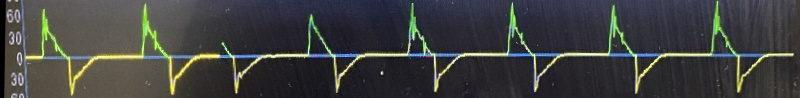hydrop_flow: (404, 4, 800, 98), (23, 1, 209, 98)
normal_flow: (280, 4, 383, 94)
